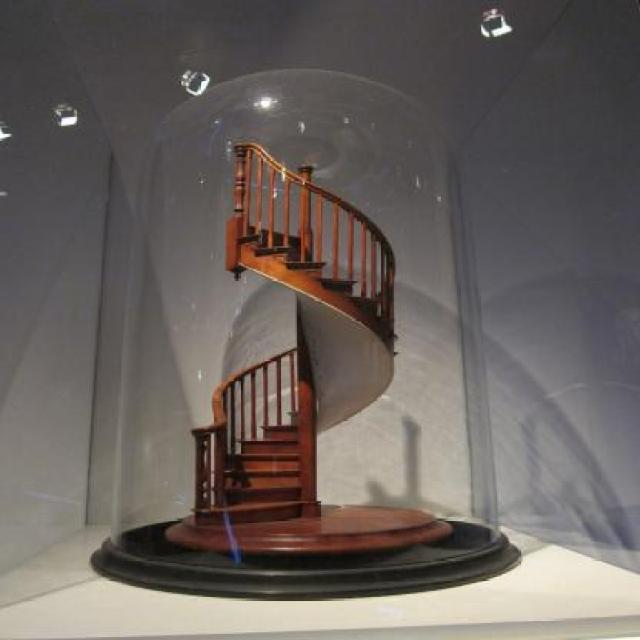stair: (189, 214, 402, 528)
